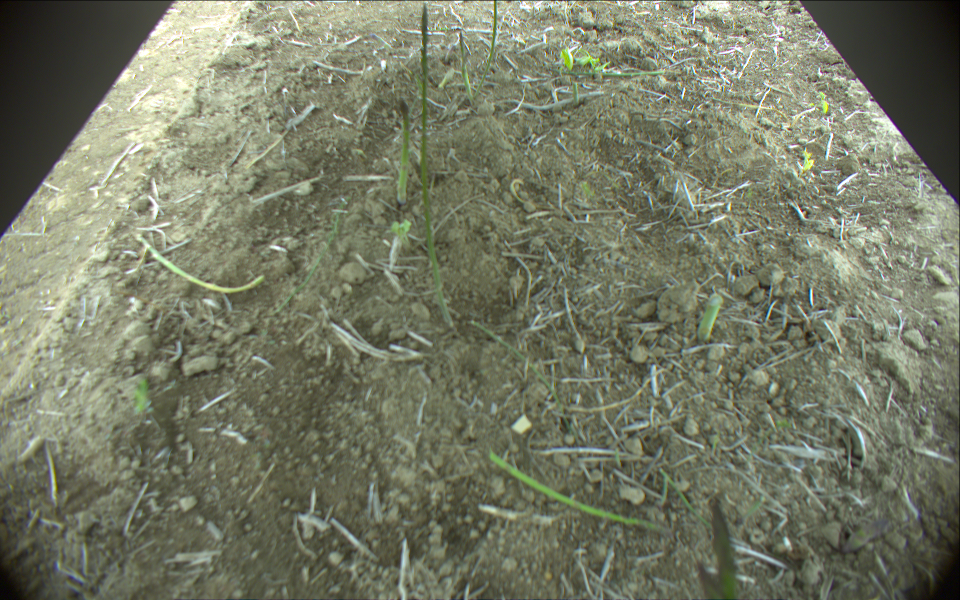aspa: (486, 448, 673, 534), (418, 1, 455, 329), (136, 234, 267, 295), (710, 496, 741, 600), (475, 1, 499, 95), (395, 98, 410, 205), (549, 66, 687, 77), (696, 292, 725, 339), (458, 29, 474, 106), (571, 80, 581, 108)
